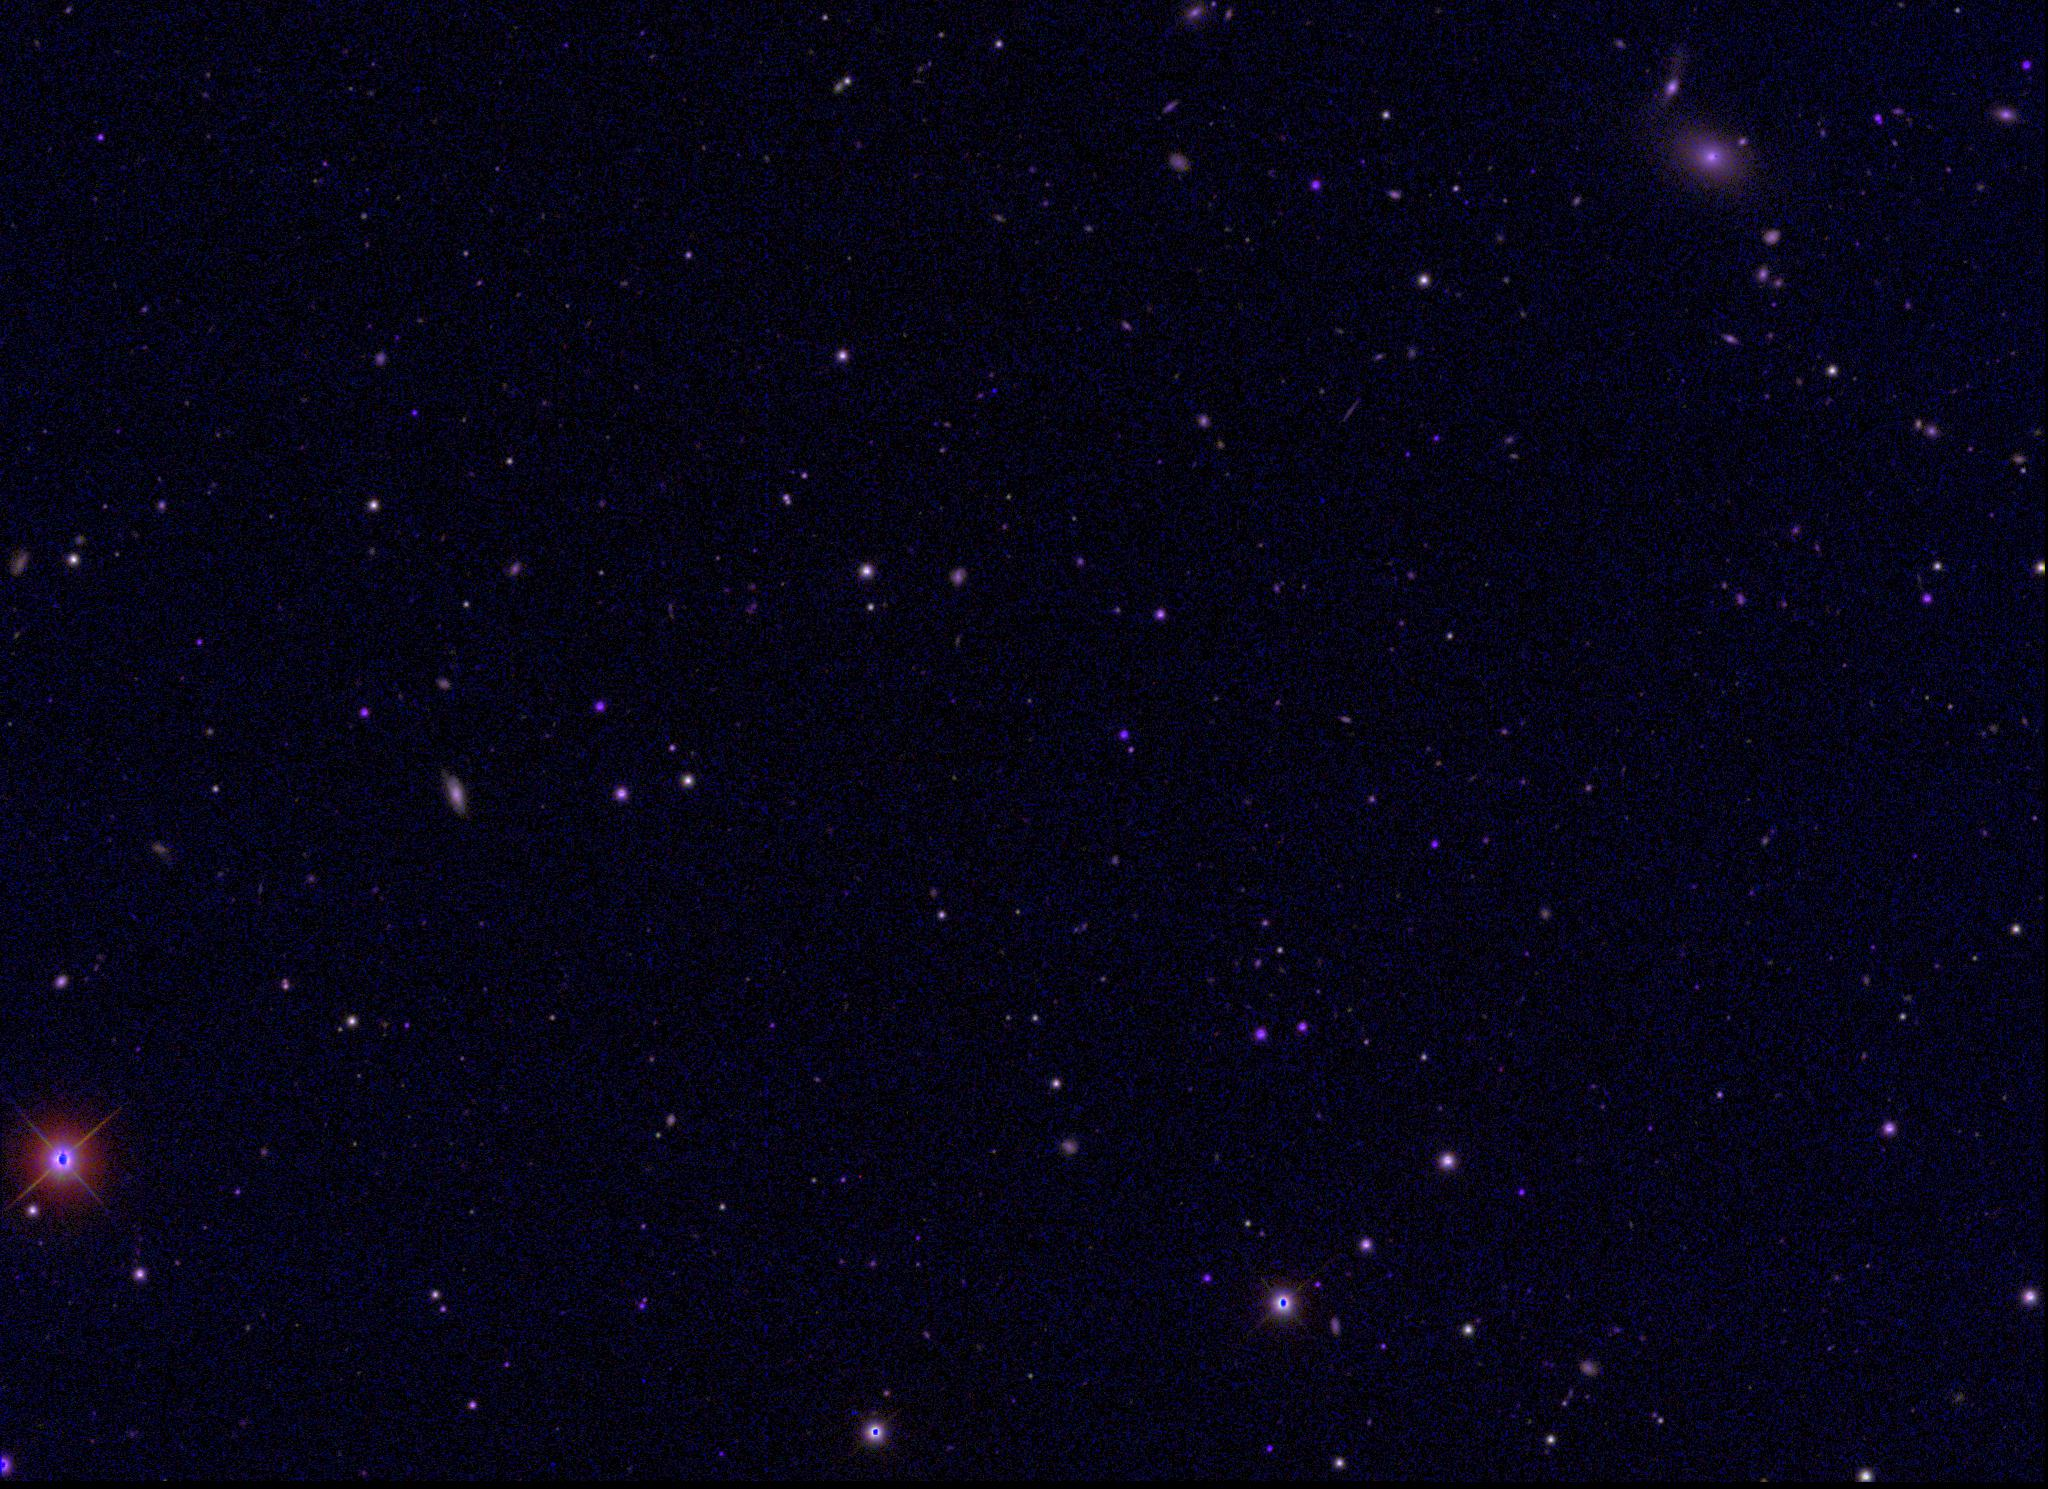L: (987, 383, 1002, 398)
